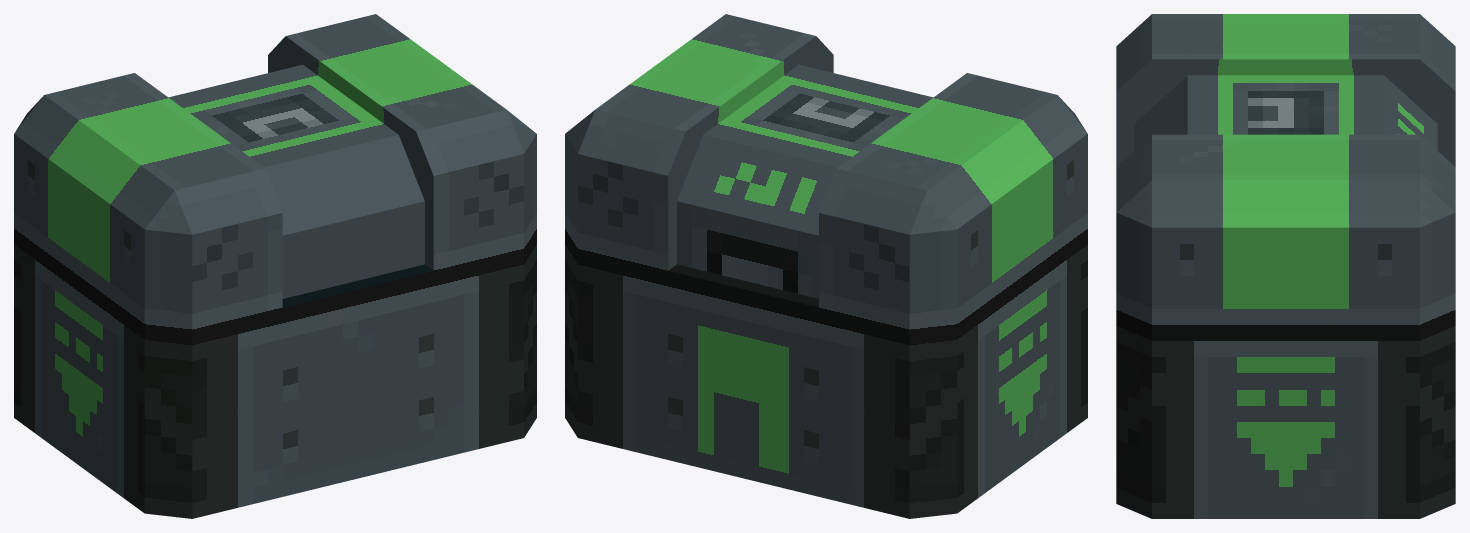
File: tritanium_crate_lime.obj
3 views of the same model, side by side, from view 1: azimuth 30°, elevation 25°; view 2: azimuth 150°, elevation 25°; view 3: azimuth 270°, elevation 25° (orthographic). The views are drawn at different scales.
Visible parts, largest first — view 1: tritanium_crate_lime; view 2: tritanium_crate_lime; view 3: tritanium_crate_lime.
Boxes of the visible parts, x1,y1,x2,y2 form: tritanium_crate_lime: [14, 14, 536, 518]; tritanium_crate_lime: [565, 14, 1087, 518]; tritanium_crate_lime: [1116, 14, 1455, 518].
Size of the model in its own units: 0.9958 by 0.766 by 0.7278.
